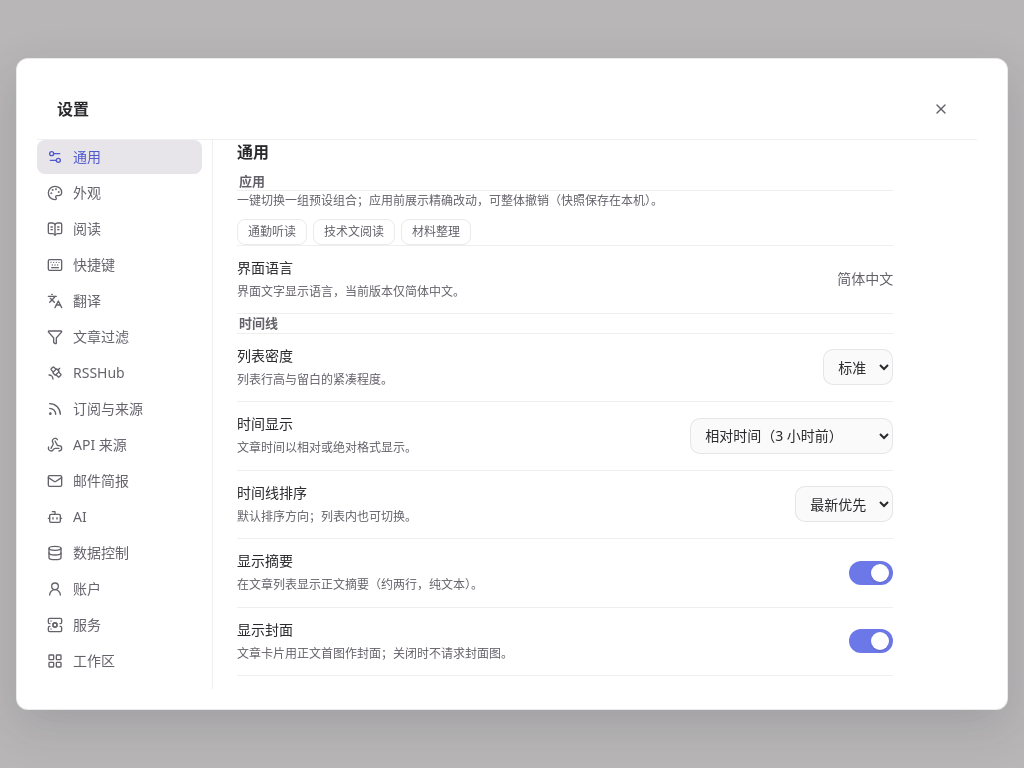
Scenario: 分类页 planned 语义（AC10） › 订阅与来源页：OPML 导入/导出真实可用（0013 Gate 4）；来源发现指向订阅中心（0014）
Step 1. Click the button "订阅与来源" → (120, 409), box 37,392 -> 202,426
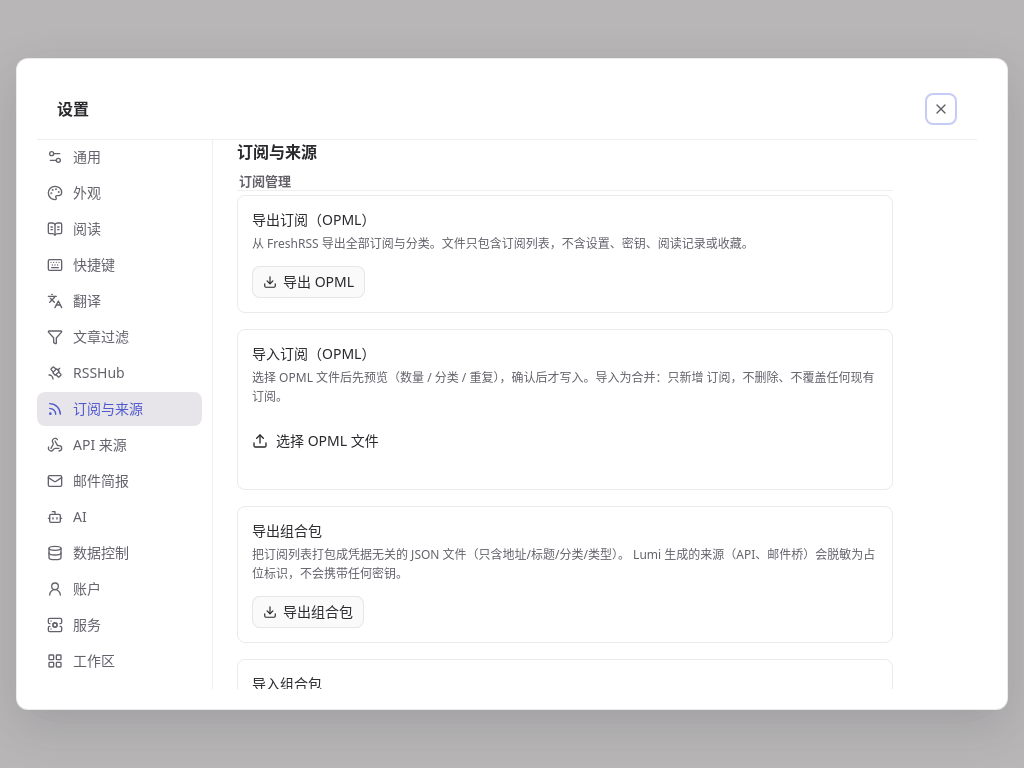
Expected: the button "导出 OPML" is enabled, 252,266 -> 365,298
Expected: the file field labelled "选择 OPML 文件" is shown, 252,431 -> 379,450
